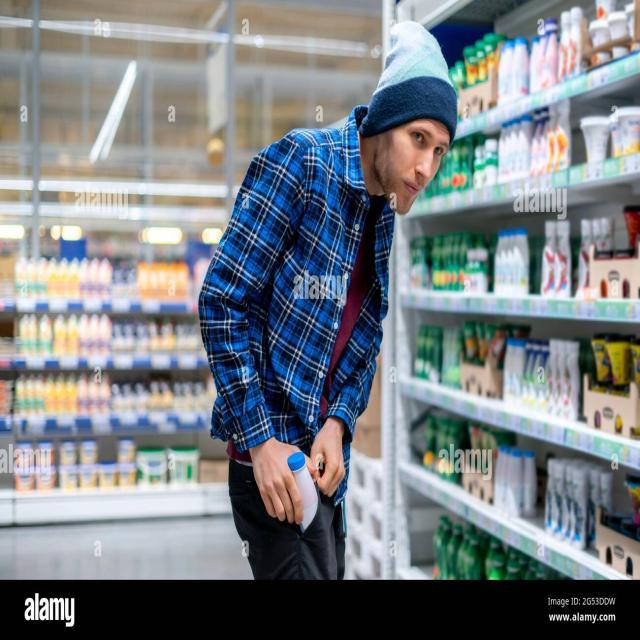Shoplifting: (163, 28, 569, 580)
